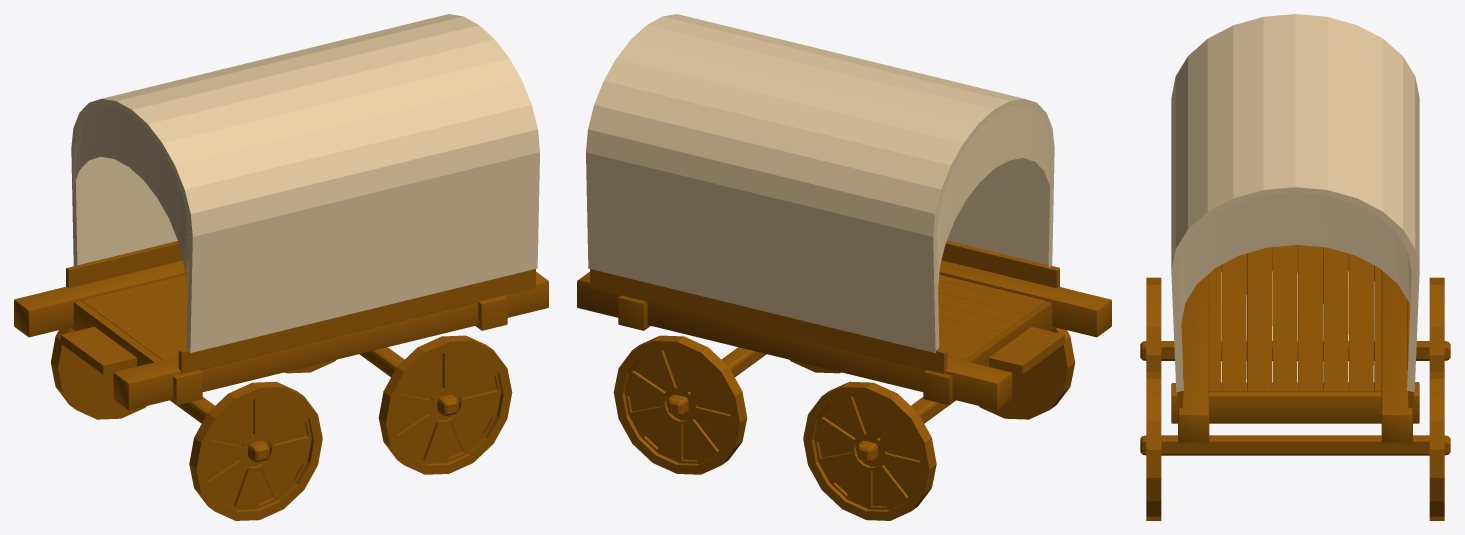
File: SM_Wagon_Permanent.fbx
The picture shows the model from 3 angles, left to right: view 1: azimuth 30°, elevation 25°; view 2: azimuth 150°, elevation 25°; view 3: azimuth 270°, elevation 25°; orthographic projection. The views are drawn at different scales.
Parts seen in each view (by area): view 1: SM_Canvus, SM_Wagon_Wheel.003, SM_Wagon_Wheel, SM_Beam_Long, SM_Plank_Floor_01.009, SM_Beam_Long.001, SM_Wagon_Wheel.001, SM_Beam_Short.001, SM_Plank_Floor_01.010, SM_DriverSeat, SM_Plank_Floor_01.007, SM_Plank_Floor_01.005 (+5 smaller); view 2: SM_Canvus, SM_Wagon_Wheel.002, SM_Wagon_Wheel.001, SM_Beam_Long.001, SM_Plank_Floor_01.010, SM_Beam_Long, SM_Wagon_Wheel, SM_Beam_Short.001, SM_Plank_Floor_01.009, SM_DriverSeat, SM_Plank_Floor_01.001, SM_Wagon_Axle (+6 smaller); view 3: SM_Canvus, SM_Beam_Short, SM_Wagon_Axle, SM_Beam_Long.001, SM_Beam_Long, SM_Plank_Floor_01.003, SM_Plank_Floor_01.004, SM_Plank_Floor_01.005, SM_Plank_Floor_01.002, SM_Plank_Floor_01.001, SM_Plank_Floor_01.007, SM_Wagon_Wheel.002 (+6 smaller).
Boxes of the visible parts, box(x1,y1,x2,y2) form: SM_Canvus: box(71, 14, 539, 352); SM_Wagon_Wheel.003: box(378, 335, 512, 474); SM_Wagon_Wheel: box(189, 381, 322, 520); SM_Beam_Long: box(113, 272, 548, 410); SM_Plank_Floor_01.009: box(178, 269, 535, 373); SM_Beam_Long.001: box(14, 259, 188, 337); SM_Wagon_Wheel.001: box(50, 327, 146, 419); SM_Beam_Short.001: box(70, 301, 202, 405); SM_Plank_Floor_01.010: box(66, 241, 188, 287); SM_DriverSeat: box(61, 326, 136, 374); SM_Plank_Floor_01.007: box(85, 278, 187, 312); SM_Plank_Floor_01.005: box(98, 290, 187, 321); SM_Canvus: box(586, 14, 1054, 352); SM_Wagon_Wheel.002: box(613, 335, 747, 474); SM_Wagon_Wheel.001: box(803, 381, 936, 520); SM_Beam_Long.001: box(577, 272, 1012, 410); SM_Plank_Floor_01.010: box(590, 269, 947, 373); SM_Beam_Long: box(939, 260, 1111, 337); SM_Wagon_Wheel: box(979, 327, 1075, 419); SM_Beam_Short.001: box(923, 287, 1067, 405); SM_Plank_Floor_01.009: box(941, 240, 1059, 288); SM_DriverSeat: box(989, 326, 1064, 374); SM_Plank_Floor_01.001: box(938, 281, 1037, 314); SM_Wagon_Axle: box(668, 347, 766, 415); SM_Canvus: box(1171, 14, 1419, 391); SM_Beam_Short: box(1171, 382, 1419, 423); SM_Wagon_Axle: box(1140, 435, 1450, 455); SM_Beam_Long.001: box(1381, 270, 1412, 442); SM_Beam_Long: box(1178, 273, 1209, 442); SM_Plank_Floor_01.003: box(1272, 245, 1297, 391); SM_Plank_Floor_01.004: box(1298, 245, 1323, 391); SM_Plank_Floor_01.005: box(1323, 247, 1348, 391); SM_Plank_Floor_01.002: box(1247, 247, 1272, 391); SM_Plank_Floor_01.001: box(1221, 253, 1246, 391); SM_Plank_Floor_01.007: box(1349, 253, 1374, 391); SM_Wagon_Wheel.002: box(1429, 372, 1444, 520).
Bounding box in the file's own units: 400 × 250 × 336.
